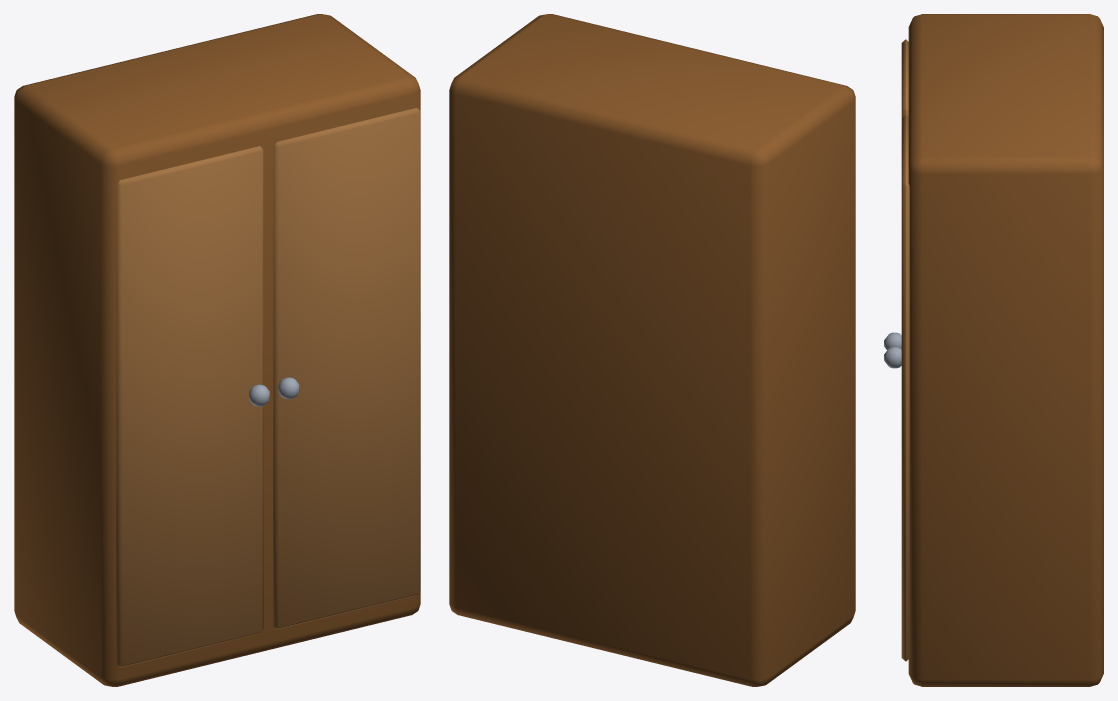
File: wardrobe.glb
The picture shows the model from 3 angles, left to right: view 1: azimuth 30°, elevation 25°; view 2: azimuth 150°, elevation 25°; view 3: azimuth 270°, elevation 25°; orthographic projection.
Visible parts, largest first — view 1: Body, Door-1, Door1; view 2: Body; view 3: Body, Door1, Door-1.
Part boxes in pixels (bbox=[...]): Body: bbox=[14, 14, 420, 686]; Door-1: bbox=[116, 146, 263, 667]; Door1: bbox=[273, 108, 420, 629]; Body: bbox=[449, 14, 855, 686]; Body: bbox=[908, 14, 1103, 686]; Door1: bbox=[901, 115, 909, 661]; Door-1: bbox=[901, 39, 908, 117].
Size of the model in its own units: 1.3 by 2.1 by 0.788.
